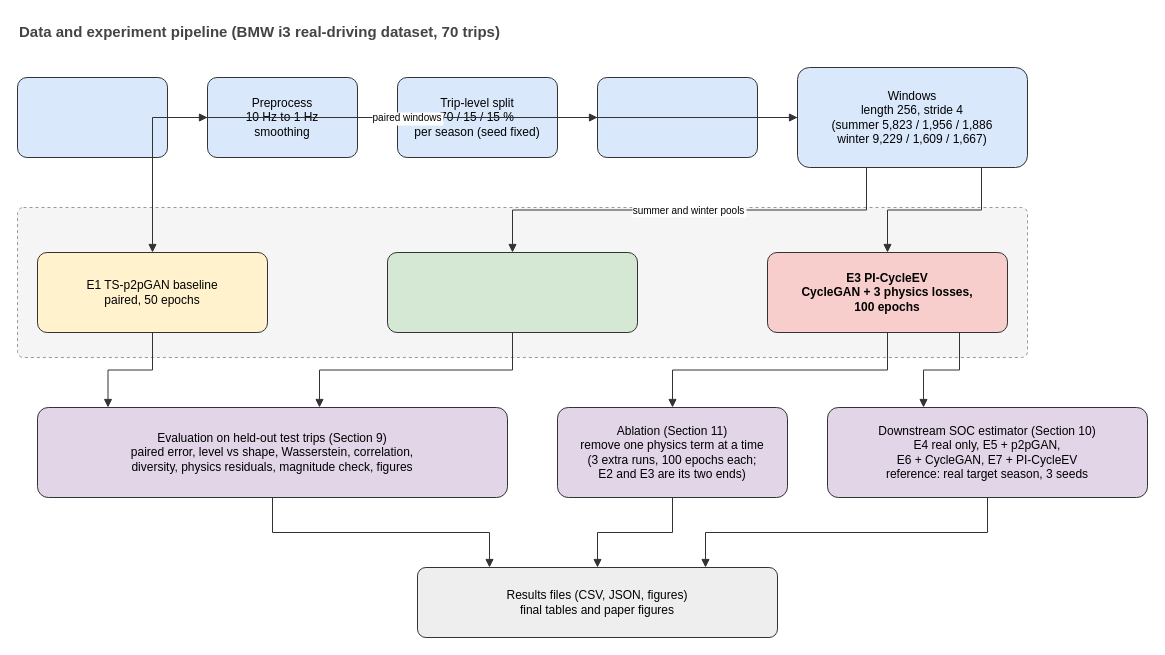
The diagram is 1165 pixels wide and 655 high, and some of its shapes have lost their labels. The box of each missing label's shape, as (x1, y1, x2, y2) in pixels:
E2 CycleGAN unpaired, no physics, 100 epochs: (386, 252, 638, 332)
Generative models (E1 to E3): (16, 206, 1028, 358)
Raw trips 70 CSV files (10 Hz, 14 channels): (16, 76, 168, 158)
Scale min-max fitted on training trips only: (596, 76, 758, 158)
